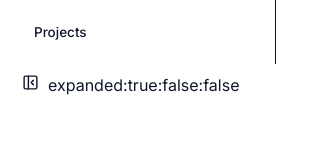
Test: SidebarProvider › starts expanded on desktop and collapses from the trigger
This screenshot has width=332, height=160.
Click the button named "Collapse sidebar".
click(30, 82)  # box [12,64,48,100]
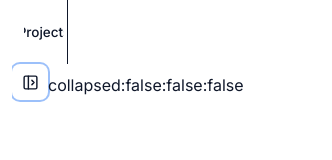
expect the element showing "Projects" has attribute data-state="collapsed": met, box [12,0,68,64]
expect the element showing "Projects" has attribute data-collapsible="icon": met, box [12,0,68,64]
